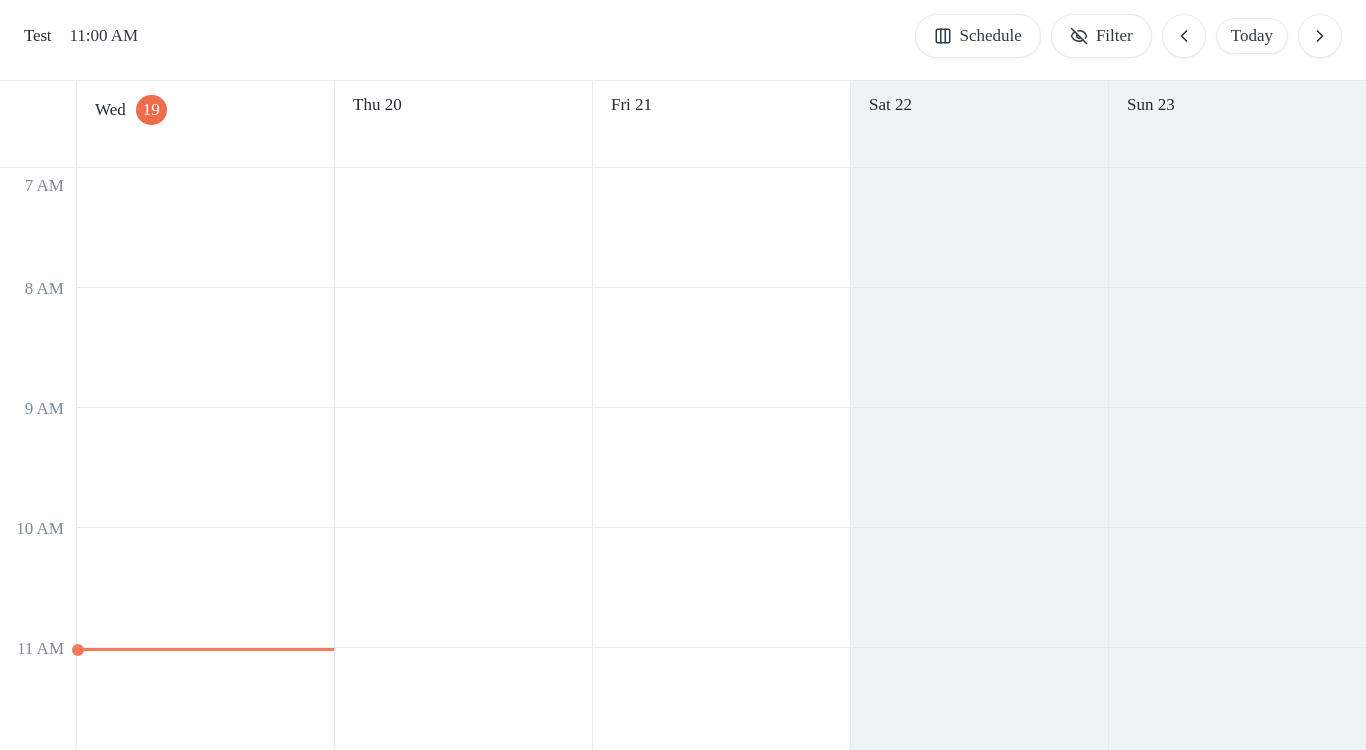
CalendarScreen Five-Day View › a slower fetch for an earlier page does not replace the current events
Expected: the button "Today" is shown, [1216,18,1288,54]
Click the button named "Next five days": (1320, 36) [1298,14,1342,58]
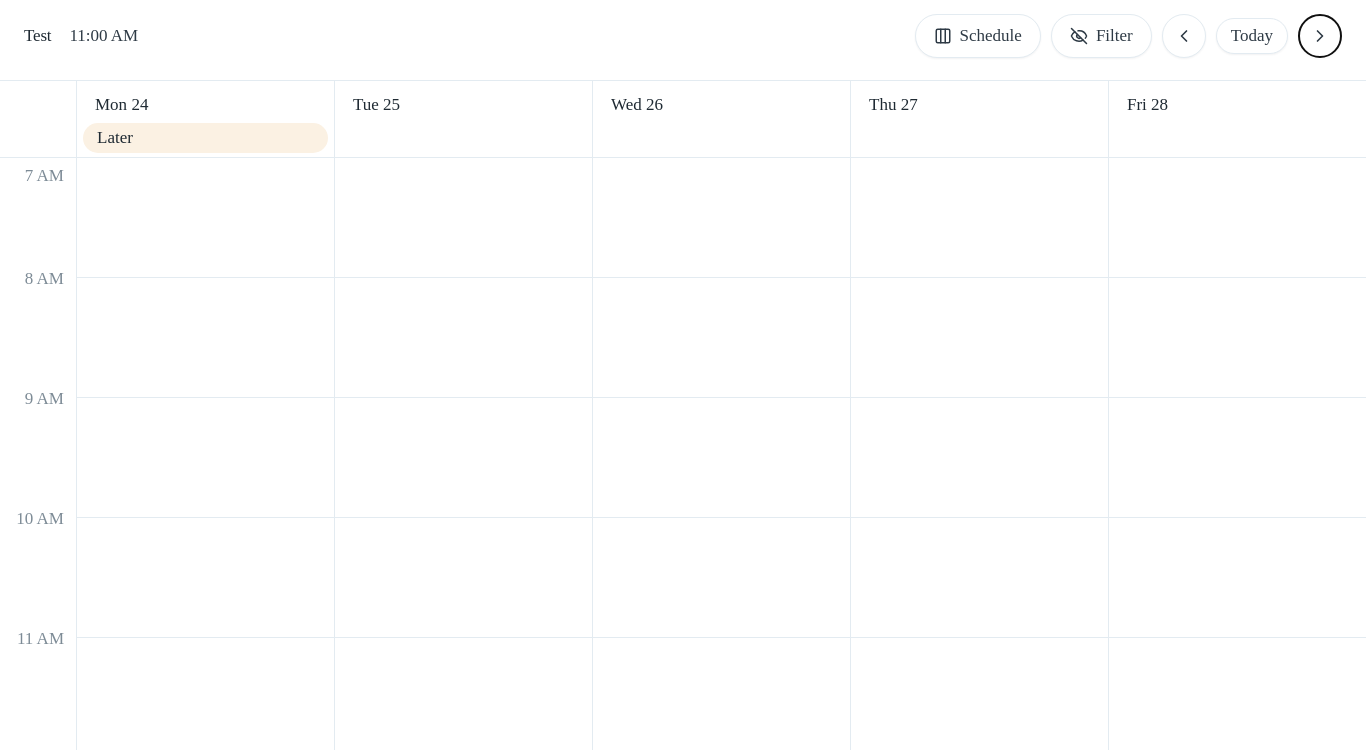
Expected: the button "Later" is shown, [83,123,328,153]
